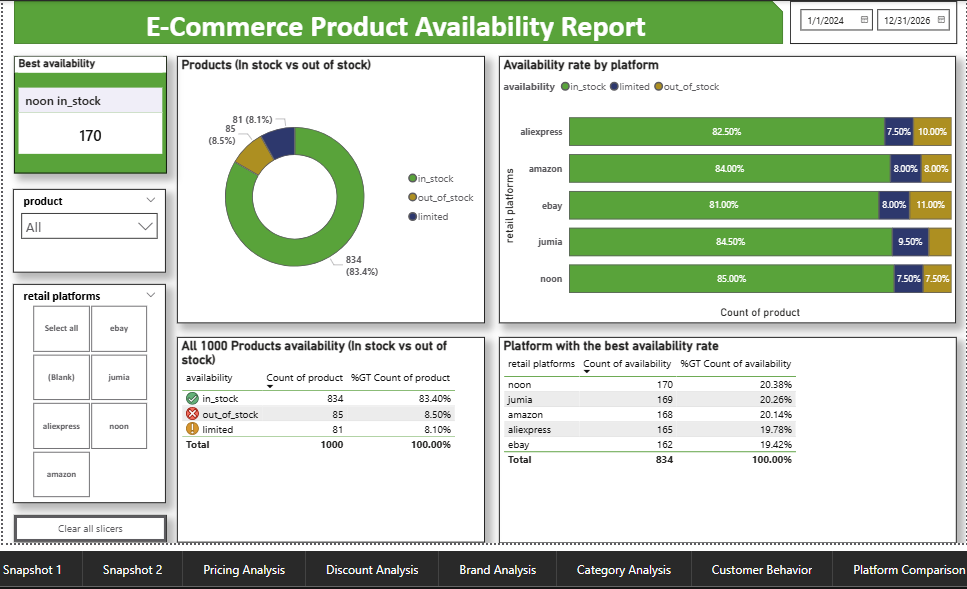

What the dashboard file says about the page in this screenshot:
{"tool":"powerbi","page":{"name":"Availability Analysis","canvas":[1280,720],"ordinal":8},"visuals":[{"type":"shape","box":[14.3,0,1021.7,57.1],"z":0},{"type":"slicer","fields":{"Values":["ecommerce_dataset.retail platforms"]},"box":[13.4,376.4,203.2,291.3],"z":1000},{"type":"actionButton","box":[14.9,682.7,203.2,35.9],"z":2000},{"type":"slicer","fields":{"Values":["ecommerce_dataset.product"]},"box":[13.4,249.5,203.2,110.5],"z":3000},{"type":"donutChart","title":"Products (In stock vs out of stock)","fields":{"Category":["ecommerce_dataset.availability"],"Y":["CountNonNull(ecommerce_dataset.product)"]},"box":[231.2,72.4,408.8,355],"z":4000},{"type":"tableEx","title":"Platform with the best availability rate","fields":{"Values":["ecommerce_dataset.retail platforms","CountNonNull(ecommerce_dataset.availability)","Divide(CountNonNull(ecommerce_dataset.availability), ScopedEval(CountNonNull(ecommerce_dataset.availability), []))"]},"box":[658.4,446,607.5,273.9],"z":5000},{"type":"tableEx","title":"All 1000 Products availability (In stock vs out of stock)","fields":{"Values":["ecommerce_dataset.availability","CountNonNull(ecommerce_dataset.product)","Divide(CountNonNull(ecommerce_dataset.product), ScopedEval(CountNonNull(ecommerce_dataset.product), []))"]},"box":[231.2,446.1,408.8,273.3],"z":6000},{"type":"hundredPercentStackedBarChart","title":"Availability rate by platform","fields":{"Category":["ecommerce_dataset.retail platforms"],"Series":["ecommerce_dataset.availability"],"Y":["CountNonNull(ecommerce_dataset.product)"]},"box":[658.7,72.4,607.3,355],"z":7000},{"type":"cardVisual","title":"Best availability","fields":{"Rows":["ecommerce_dataset.retail platforms","ecommerce_dataset.availability"],"Data":["CountNonNull(ecommerce_dataset.availability)"]},"box":[14,72.4,203.2,156.5],"z":8000},{"type":"slicer","fields":{"Values":["Date Table.Date"]},"box":[1045.8,0,221.7,57.2],"z":9000}]}

Visuals, with their boxes on the page's 1280x720 design canvas (x1, y1, x2, y2). These are canvas units, not pixel positions in the 967x589 screenshot, which may show the page scaled, cropped or inside an application window:
shape: pyautogui.locateOnScreen(14, 0, 1036, 57)
slicer - ecommerce_dataset.retail platforms: pyautogui.locateOnScreen(13, 376, 217, 668)
actionButton: pyautogui.locateOnScreen(15, 683, 218, 719)
slicer - ecommerce_dataset.product: pyautogui.locateOnScreen(13, 250, 217, 360)
"Products (In stock vs out of stock)" donutChart: pyautogui.locateOnScreen(231, 72, 640, 427)
"Platform with the best availability rate" tableEx: pyautogui.locateOnScreen(658, 446, 1266, 720)
"All 1000 Products availability (In stock vs out of stock)" tableEx: pyautogui.locateOnScreen(231, 446, 640, 719)
"Availability rate by platform" hundredPercentStackedBarChart: pyautogui.locateOnScreen(659, 72, 1266, 427)
"Best availability" cardVisual: pyautogui.locateOnScreen(14, 72, 217, 229)
slicer - Date Table.Date: pyautogui.locateOnScreen(1046, 0, 1268, 57)
